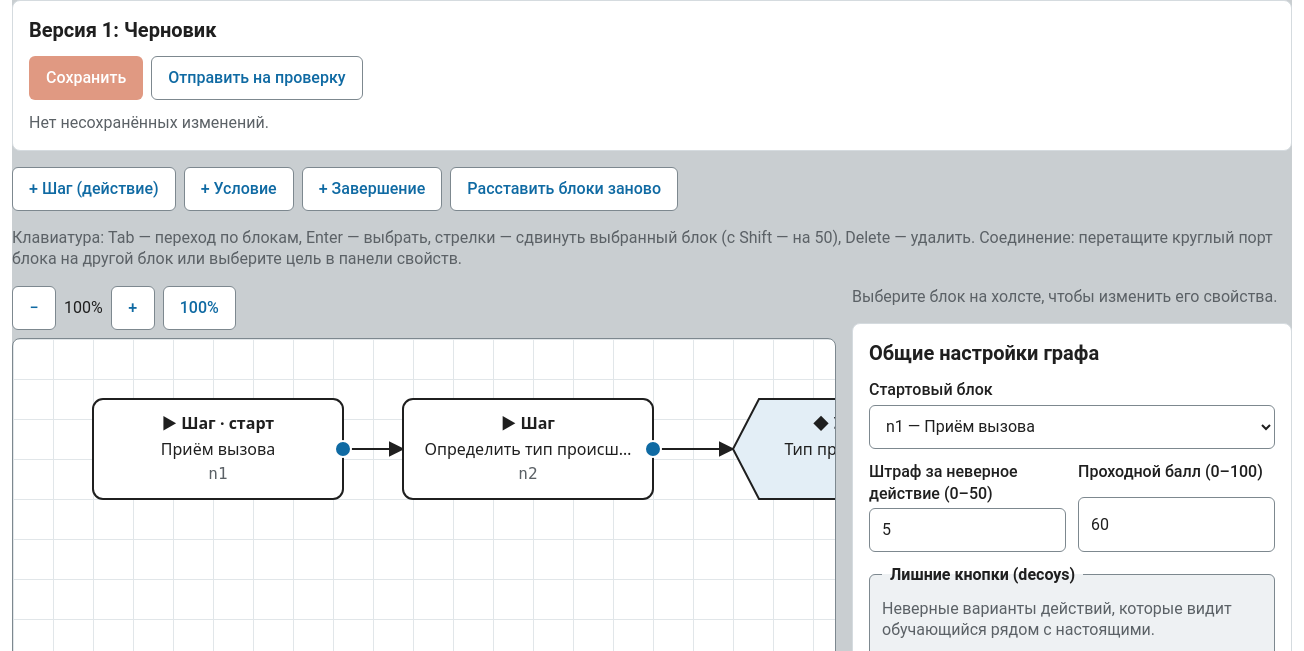
Test: ScenarioGraphEditor: процесс версий и права › ошибка API при сохранении показывается и не выдаётся за успех; повтор проходит
The width and height of the screenshot is (1304, 651).
Click the button "+ Завершение": (372, 189) [302, 167, 442, 211]
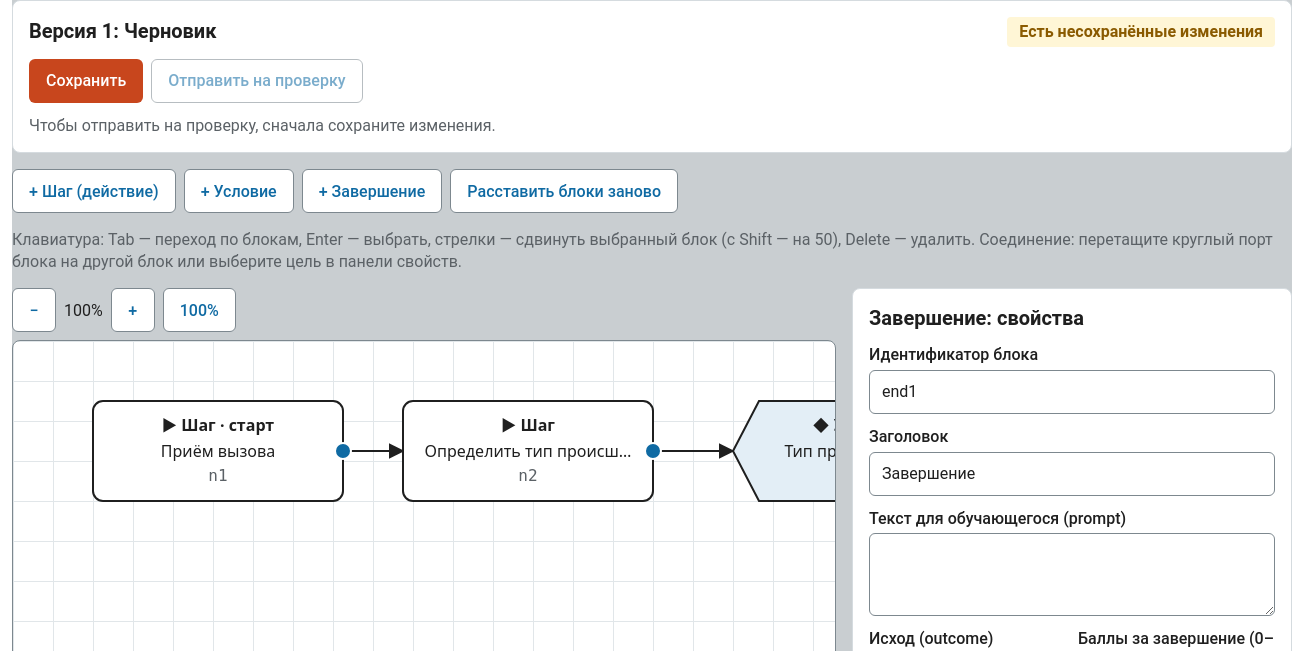
Click the button "Сохранить": (86, 81) [29, 59, 143, 103]
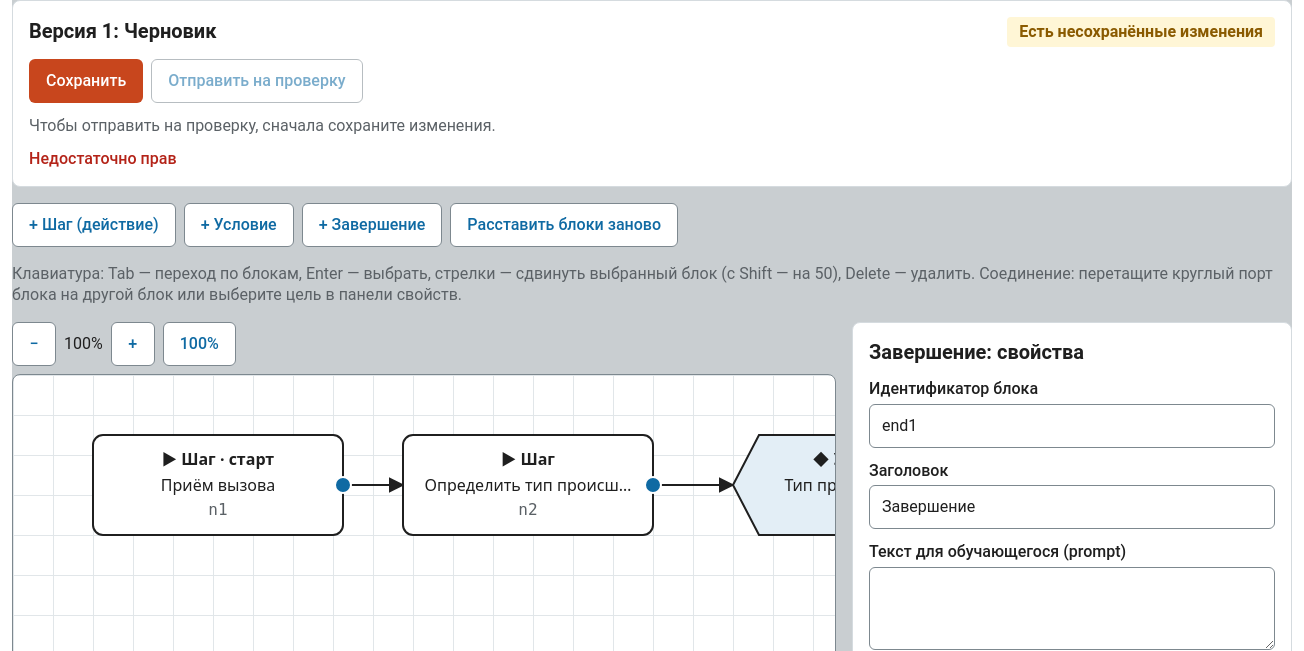
Expected: the text "Сохранено новой версией" is not shown
Now the message reads "Недостаточно прав", box [29, 149, 177, 168]
Click the button "Сохранить": (86, 81) [29, 59, 143, 103]
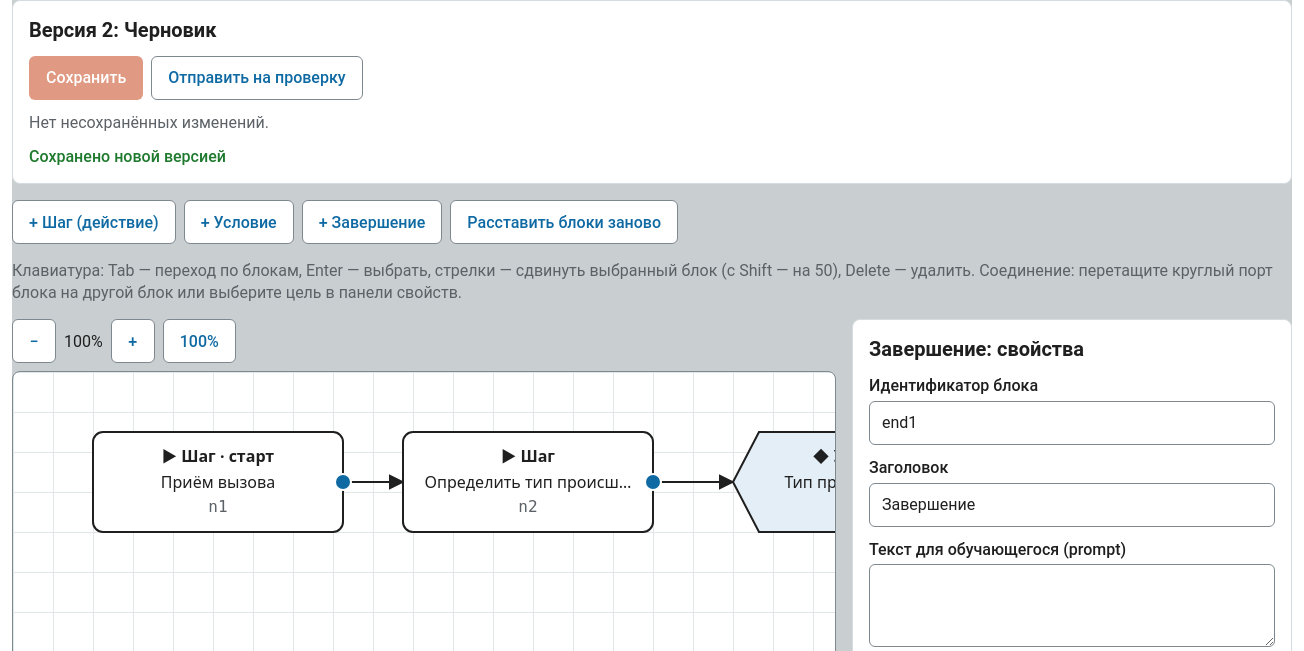
Now the text "Сохранено новой версией" is shown, box [29, 147, 226, 166]
